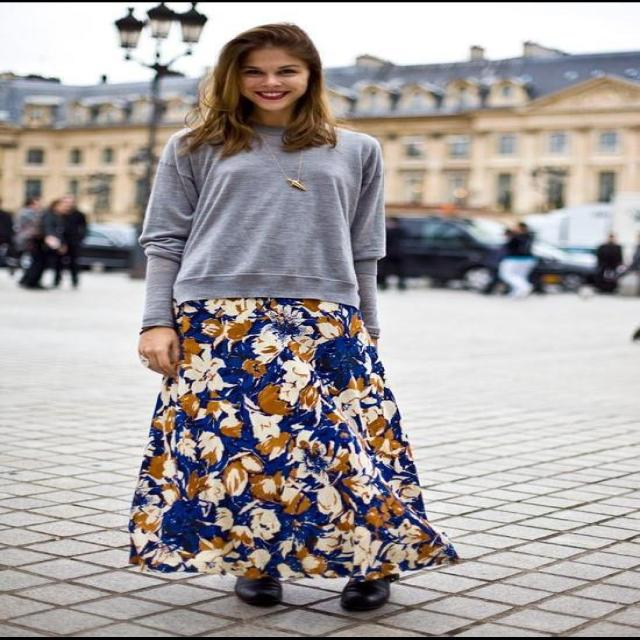skirt: (128, 297, 462, 578)
sweater: (141, 115, 387, 341)
